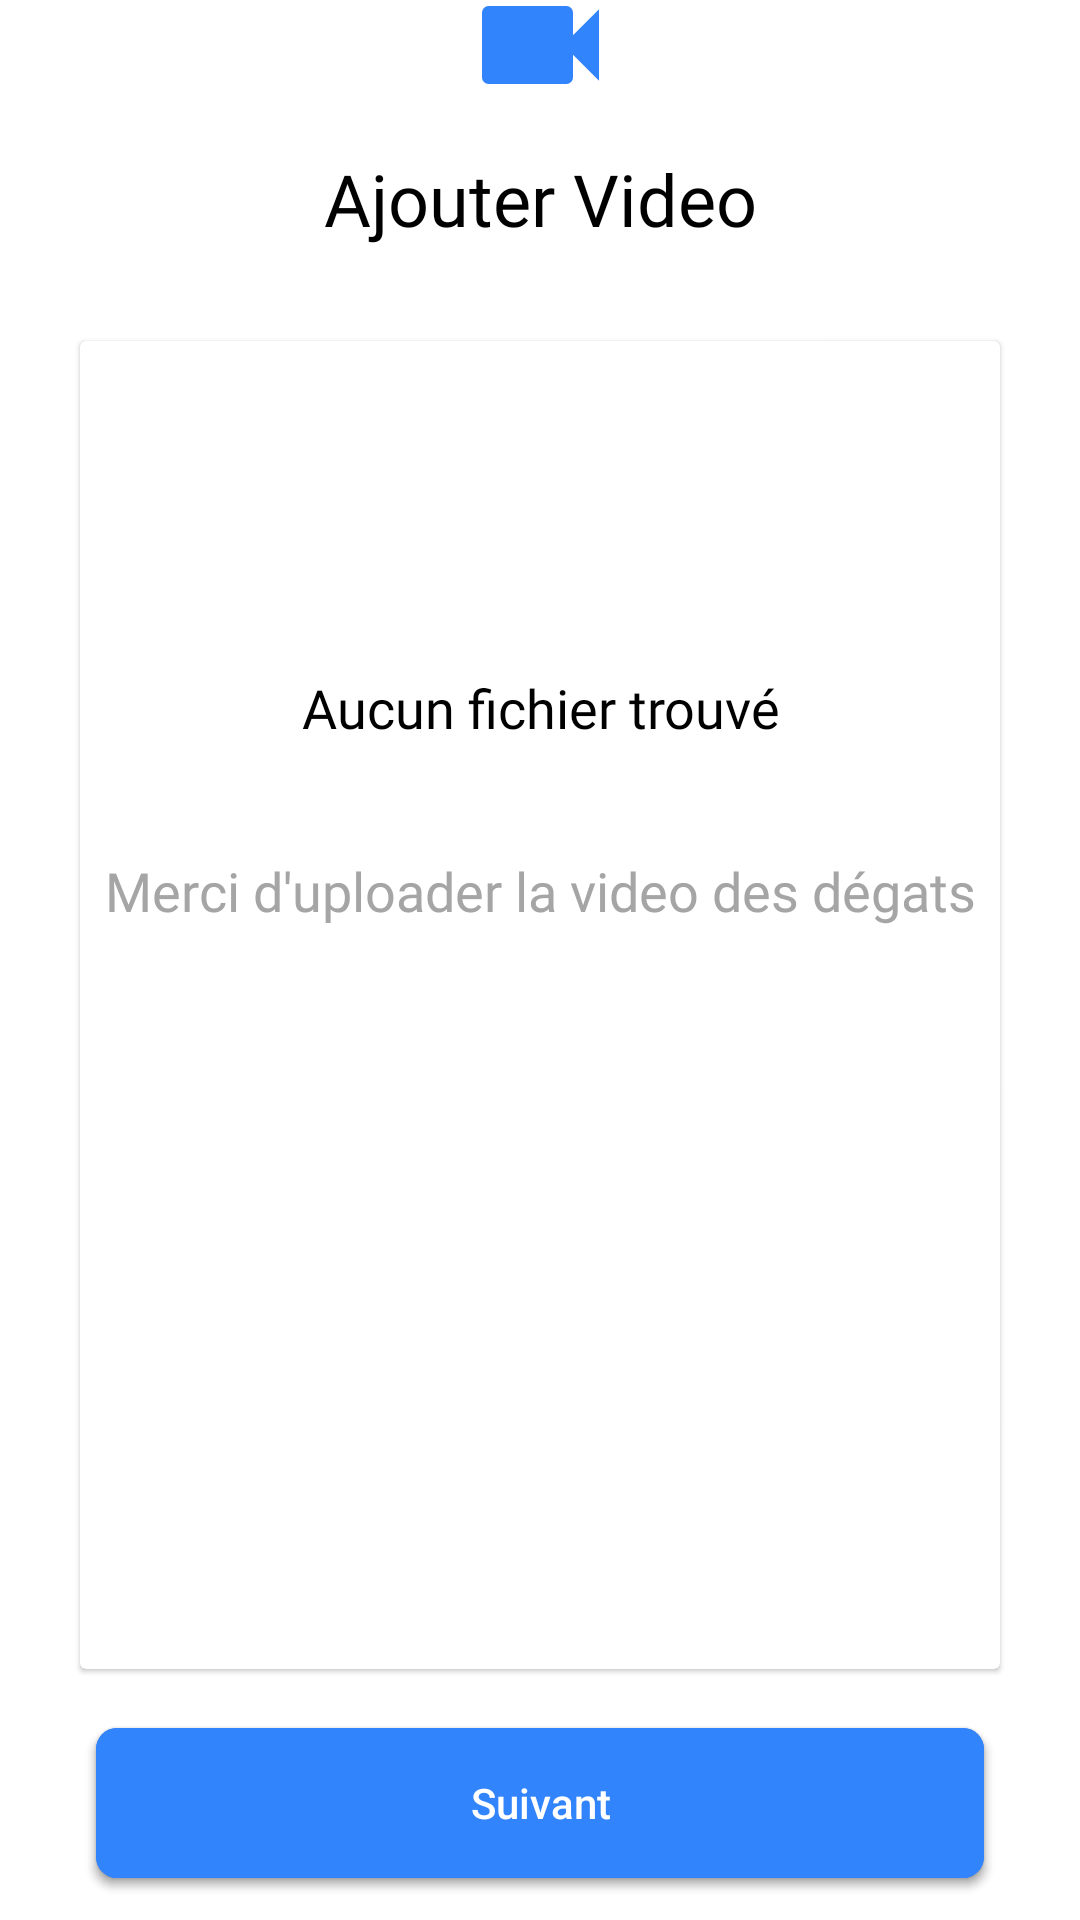

Icon click points for this 1080w x 1920h phone screenshot, format (x,y):
videocam: (540,45)
